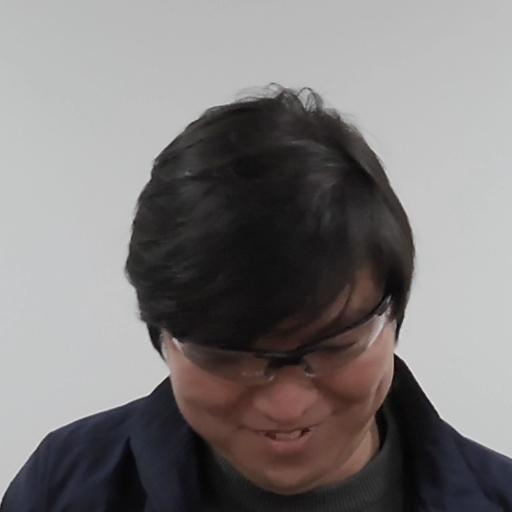glasses: (121, 100, 425, 474)
